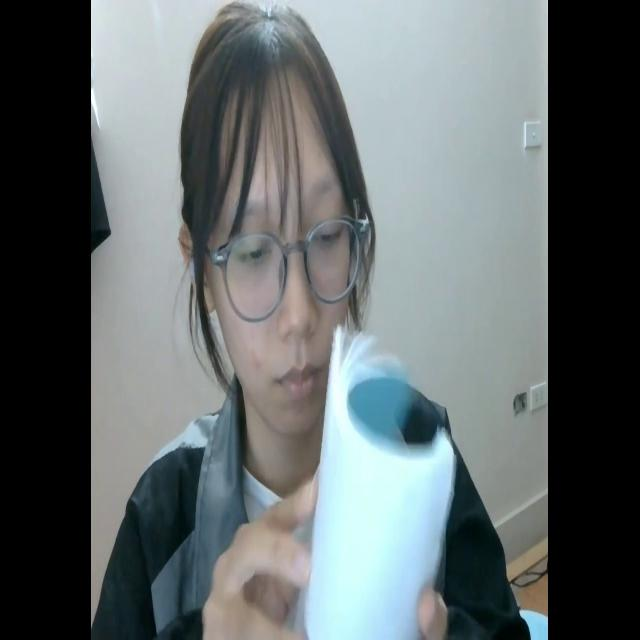book: (299, 313, 456, 640)
student: (108, 8, 531, 640)
